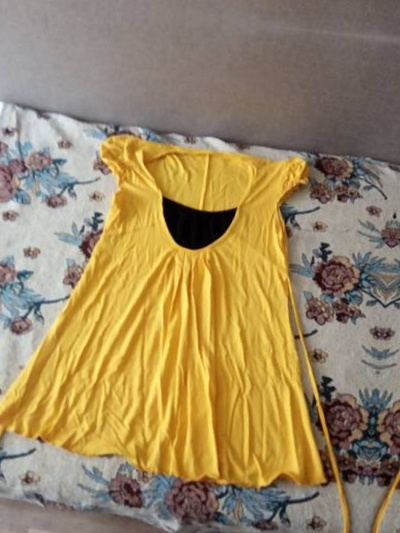Dress: (0, 89, 377, 518), (390, 132, 400, 533)
